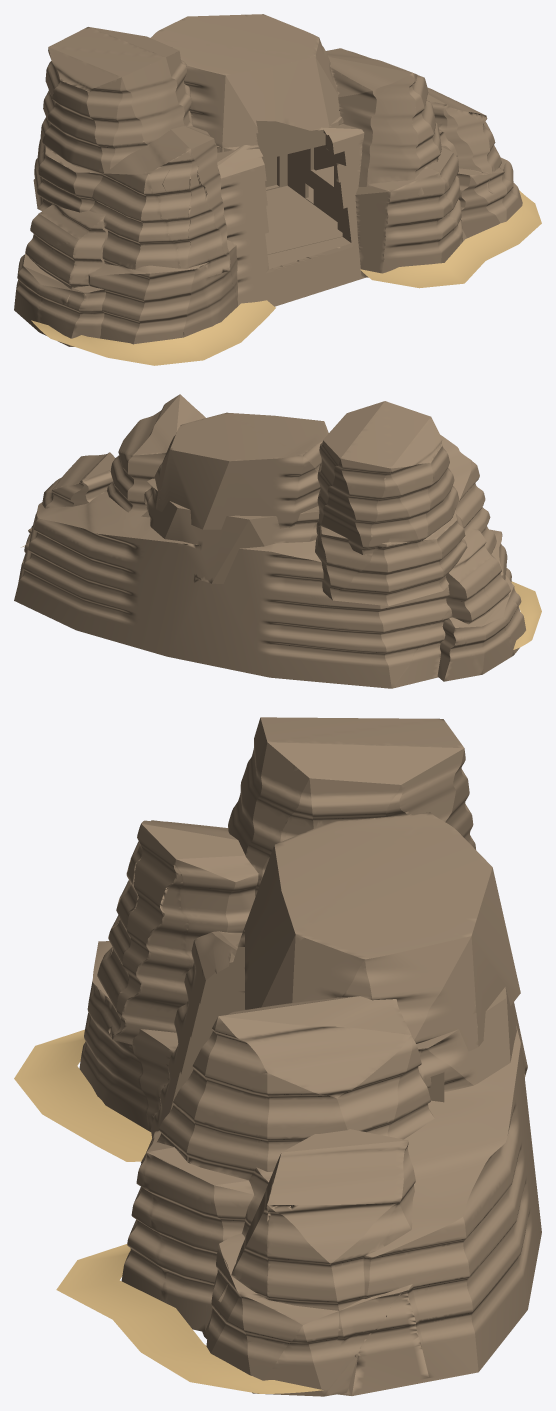
File: mountain.glb
3 views of the same model, one above another, from view 1: azimuth 30°, elevation 25°; view 2: azimuth 150°, elevation 25°; view 3: azimuth 270°, elevation 25° (orthographic). The views are drawn at different scales.
Parts seen in each view (by area): view 1: mountain-sandstone-low, sand-foot--1, sand-foot-1; view 2: mountain-sandstone-low, sand-foot--1; view 3: mountain-sandstone-low, sand-foot-1, sand-foot--1.
Part boxes in pixels (left/top/right/bottom): mountain-sandstone-low: left=14, top=14, right=522, bottom=346; sand-foot--1: left=31, top=300, right=275, bottom=365; sand-foot-1: left=360, top=190, right=541, bottom=288; mountain-sandstone-low: left=14, top=394, right=525, bottom=688; sand-foot--1: left=511, top=581, right=541, bottom=649; mountain-sandstone-low: left=79, top=717, right=541, bottom=1396; sand-foot-1: left=56, top=1244, right=323, bottom=1393; sand-foot--1: left=14, top=1029, right=151, bottom=1161.
Size of the model in its own units: 130 by 59.6 by 75.
